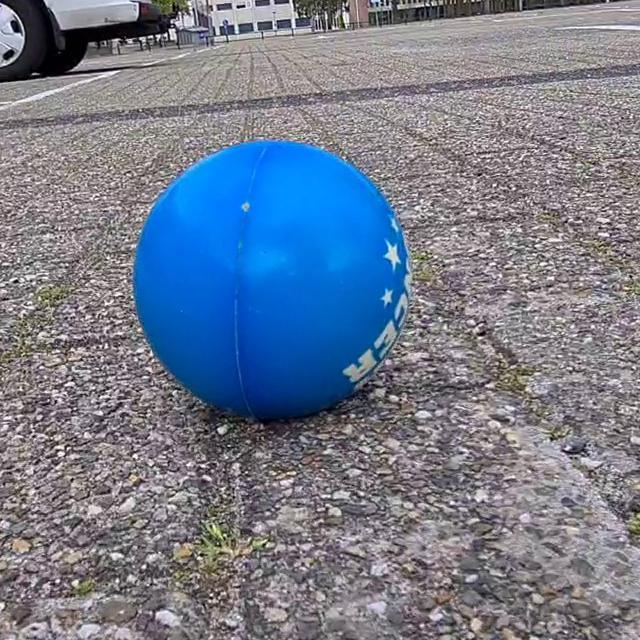ball: (132, 139, 412, 422)
